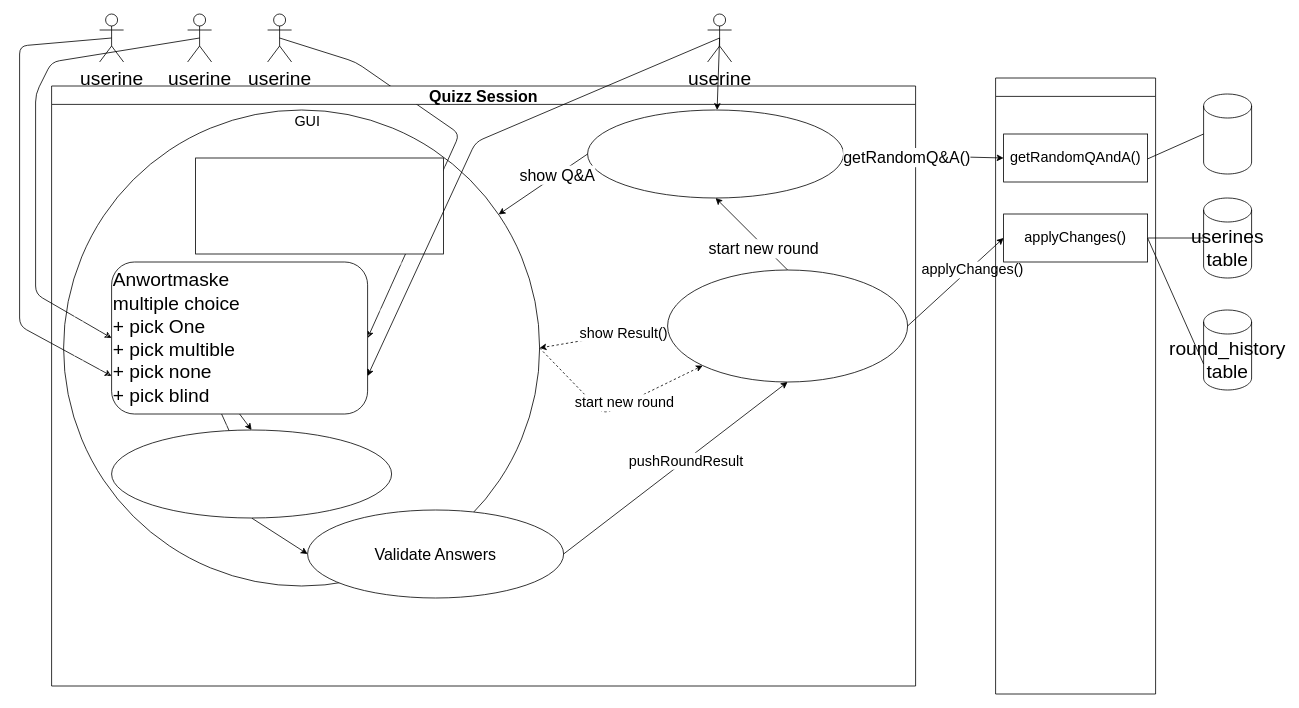
The diagram is 1299 pixels wide and 708 high, and some of its shapes have lost their labels. The box of each missing label's shape, as (x1, y1, x2, y2) in pixels:
All Session Userines picked an Answer: (111, 429, 392, 518)
Apply Changes to userines then present result start new round: (667, 269, 908, 382)
Backend: (995, 77, 1156, 694)
Frage: Text, Bild, Audio: (195, 157, 444, 254)
q+a table: (1203, 93, 1252, 174)
Start Round: (587, 109, 844, 198)
